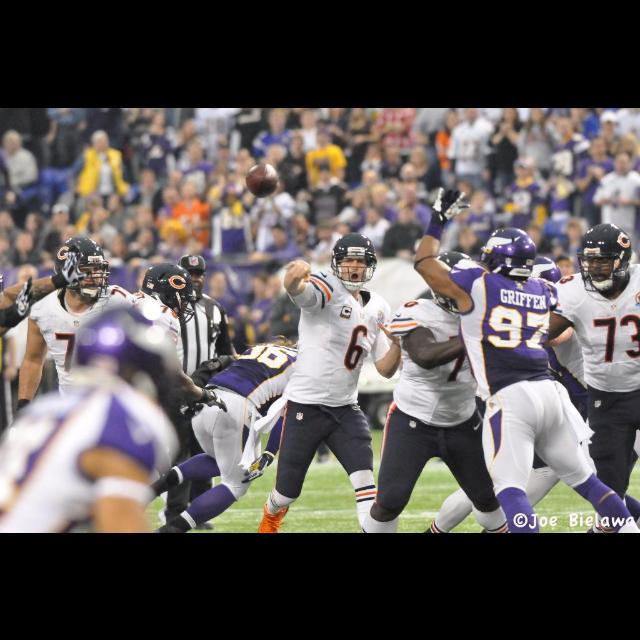Football: (243, 162, 279, 198)
